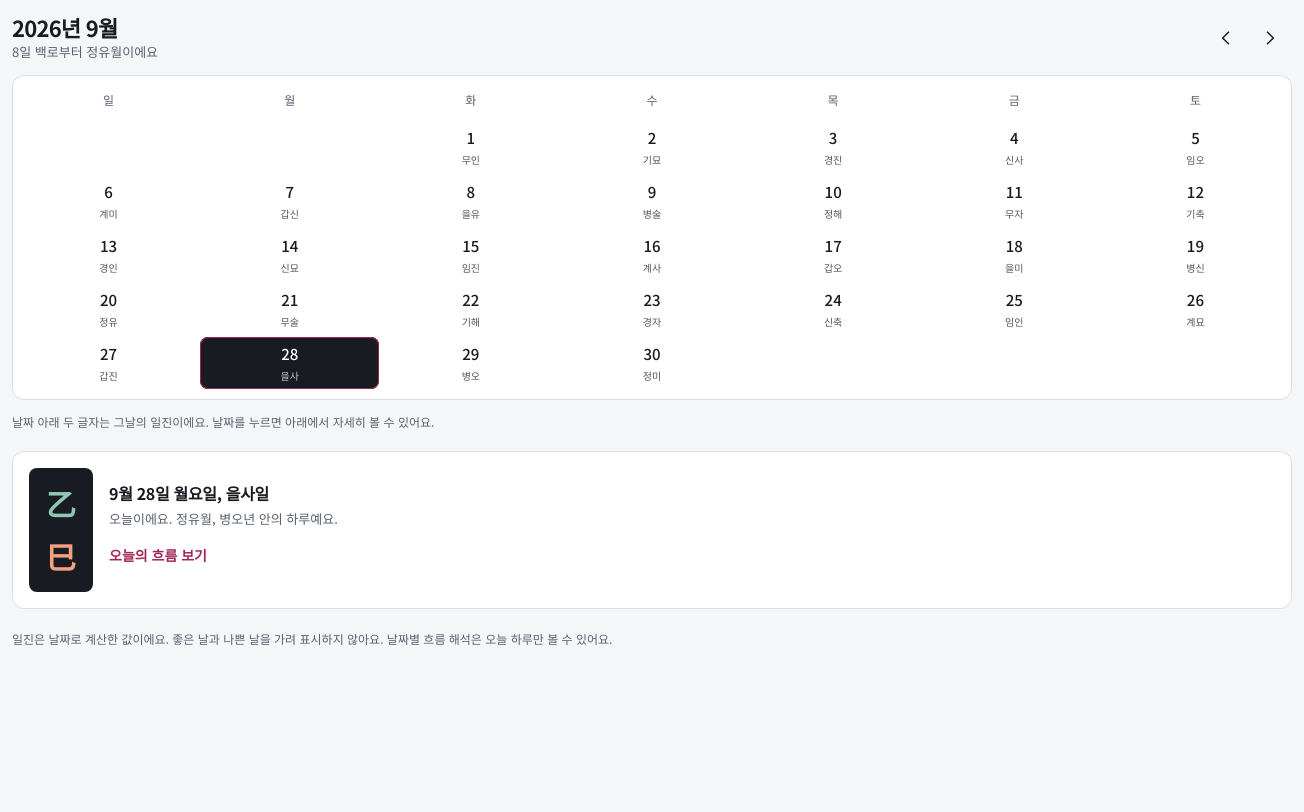
Test: core screens › calendar shows day pillars and only links today's flow
The width and height of the screenshot is (1304, 812).
Expected: the heading "2026년 9월" is shown, [12,11,117,43]
Click the button with aria-label "9월 27일 갑진일" at (109, 362), box [19,336,198,388]
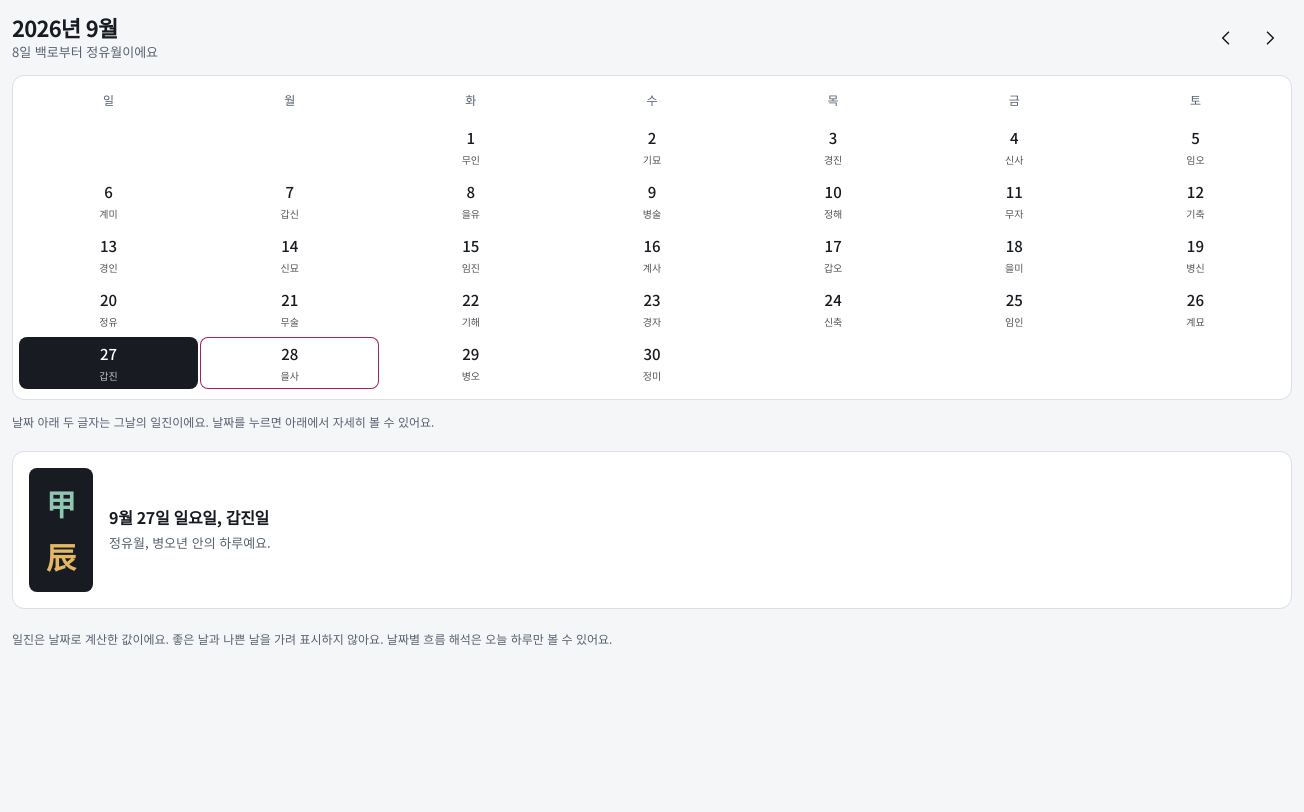
Expected: the heading "9월 27일 일요일, 갑진일" is shown, [109,505,269,529]
Expected: the link "오늘의 흐름 보기" is gone
Click the button named "다음 달" at (1270, 38), box [1248,16,1292,60]
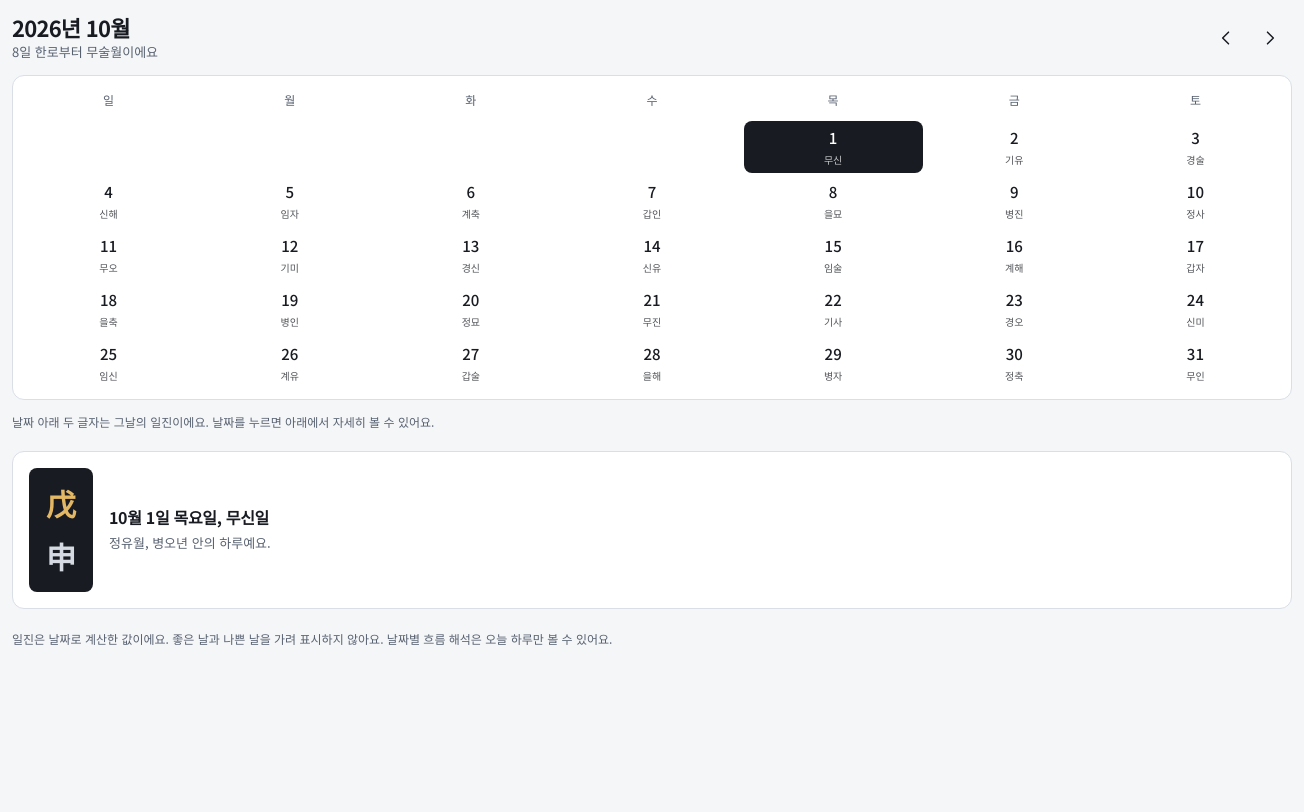
Expected: the heading "2026년 10월" is shown, [12,11,130,43]
